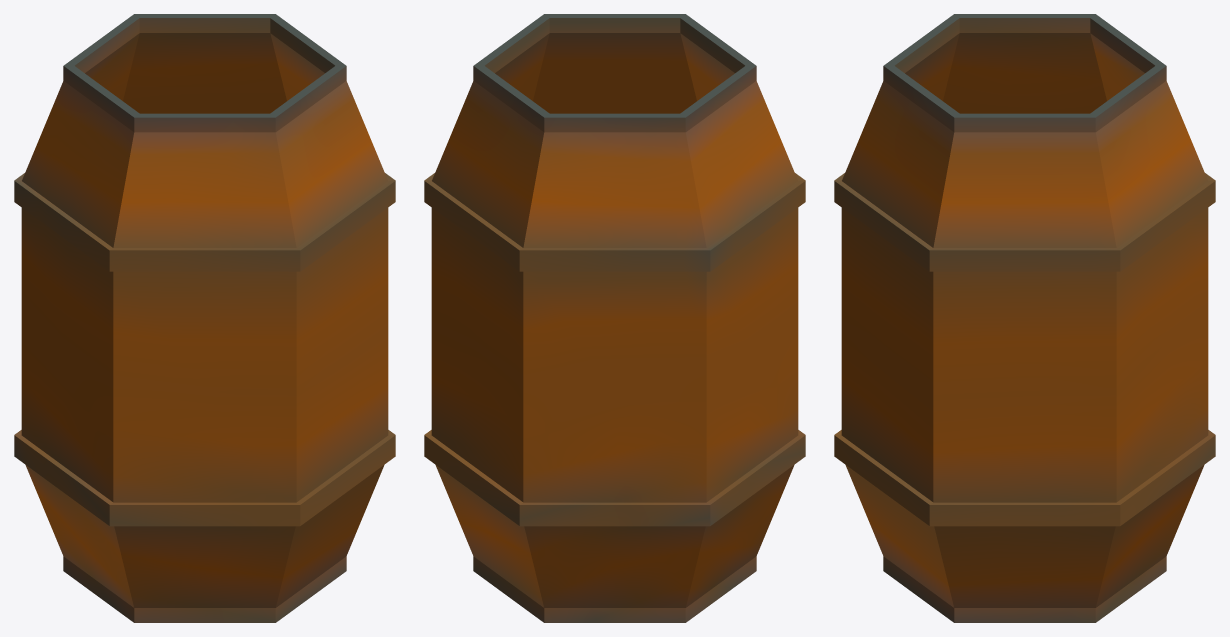
File: kit-cask.glb
3 views of the same model, side by side, from view 1: azimuth 30°, elevation 25°; view 2: azimuth 150°, elevation 25°; view 3: azimuth 270°, elevation 25° (orthographic).
Visible parts, largest first — view 1: Cylinder.036; view 2: Cylinder.036; view 3: Cylinder.036.
Part boxes in pixels (<box>): Cylinder.036: <box>14,14,395,622</box>; Cylinder.036: <box>424,14,805,622</box>; Cylinder.036: <box>834,14,1215,622</box>.
Bounding box in the file's own units: 0.4562 × 0.7697 × 0.5268.
Materials: 1 (1 with a texture image).
